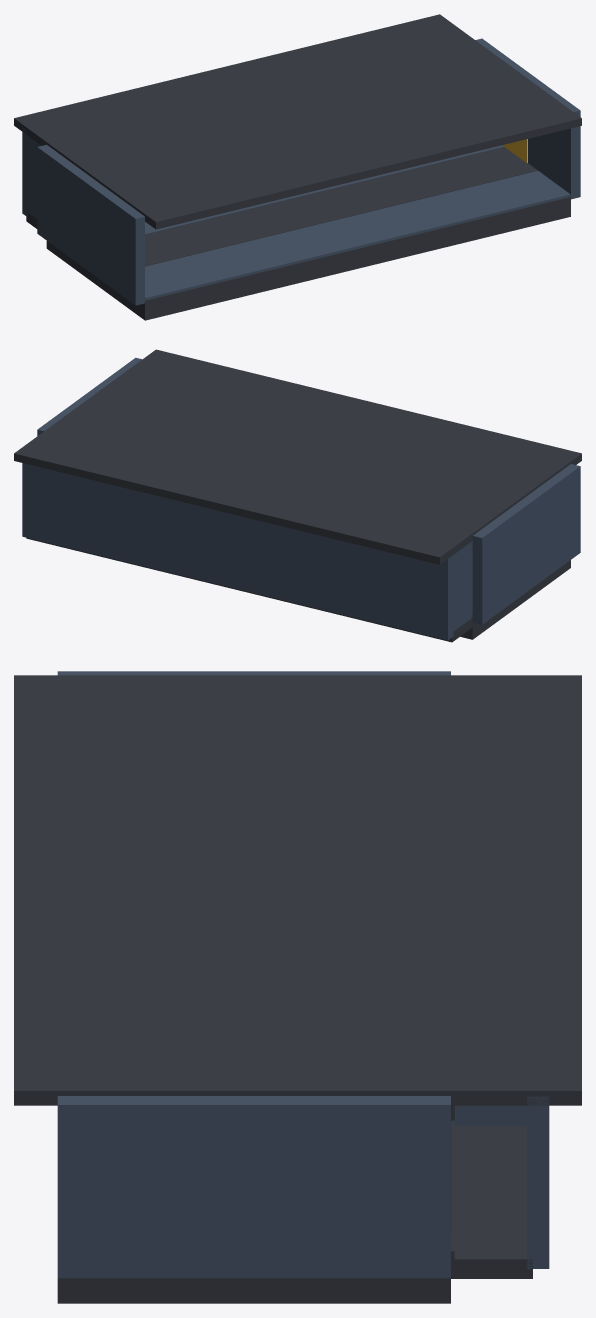
Rendered from SM_Env_CellBlock_LQ.glb.
3 renders of one model, top to bottom at view 1: azimuth 30°, elevation 25°; view 2: azimuth 150°, elevation 25°; view 3: azimuth 270°, elevation 25°, orthographic. The views are drawn at different scales.
Parts seen in each view (by area): view 1: SM_Env_CellBlock_LQ; view 2: SM_Env_CellBlock_LQ; view 3: SM_Env_CellBlock_LQ.
Part boxes in pixels (left/top/right/bottom): SM_Env_CellBlock_LQ: left=14, top=14, right=581, bottom=320; SM_Env_CellBlock_LQ: left=14, top=349, right=581, bottom=642; SM_Env_CellBlock_LQ: left=14, top=671, right=581, bottom=1303.
Size of the model in its own units: 18.8 by 4.3 by 10.4.
1 material, 1 textured.
